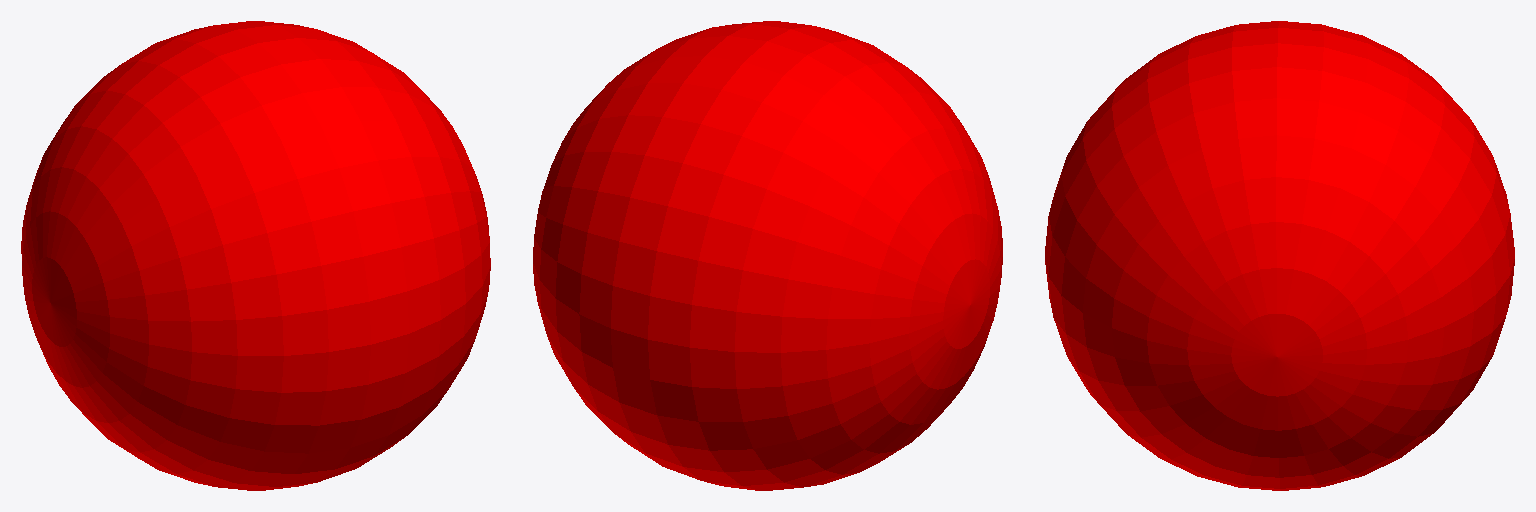
URDF robot description (panda):
<?xml version='1.0' encoding='utf-8'?>
<robot name="panda">
  
  <link name="panda_link0">
    <visual>
      <geometry>
        <mesh filename="package://franka_description/meshes/visual/link0.dae" />
      </geometry>
    </visual>
  </link>
  <link name="panda_link1">
    <visual>
      <geometry>
        <mesh filename="package://franka_description/meshes/visual/link1.dae" />
      </geometry>
    </visual>
  </link>
  
  
  <joint name="panda_joint1" type="revolute">
    <origin rpy="-2.6313949212650455e-06 -5.186632432689784e-08 -1.2780383157481656e-17" xyz="2.4693690209296155e-17 -4.567396885044367e-17 0.3330000000000001" />
    <parent link="panda_link0" />
    <child link="panda_link1" />
    <axis xyz="0 0 1" />
    <limit effort="87.0" lower="-2.8973" upper="2.8973" velocity="2.175" />
    <safety_controller k_position="100.0" k_velocity="40.0" soft_lower_limit="-2.8973" soft_upper_limit="2.8973" />
  </joint>
  
  <link name="panda_link2">
    <visual>
      <geometry>
        <mesh filename="package://franka_description/meshes/visual/link2.dae" />
      </geometry>
    </visual>
  </link>
  
  <joint name="panda_joint2" type="revolute">
    <origin rpy="-1.5671631233681536 -0.0006063905110036522 -4.638746785761078e-16" xyz="-0.00016542285187714177 0.00046611959924426654 4.3408992507204626e-17" />
    <parent link="panda_link1" />
    <child link="panda_link2" />
    <axis xyz="0 0 1" />
    <limit effort="87.0" lower="-1.7628" upper="1.7628" velocity="2.175" />
    <safety_controller k_position="100.0" k_velocity="40.0" soft_lower_limit="-1.7628" soft_upper_limit="1.7628" />
  </joint>
  
  <link name="panda_link3">
    <visual>
      <geometry>
        <mesh filename="package://franka_description/meshes/visual/link3.dae" />
      </geometry>
    </visual>
  </link>
  
  <joint name="panda_joint3" type="revolute">
    <origin rpy="1.5675434452162544 0.007116873693165347 -0.0005936954139923941" xyz="-4.018702287107603e-05 -0.31650707253508886 0.00046611688726827104" />
    <parent link="panda_link2" />
    <child link="panda_link3" />
    <axis xyz="0 0 1" />
    <limit effort="87.0" lower="-2.8973" upper="2.8973" velocity="2.175" />
    <safety_controller k_position="100.0" k_velocity="40.0" soft_lower_limit="-2.8973" soft_upper_limit="2.8973" />
  </joint>
  
  <link name="panda_link4">
    <visual>
      <geometry>
        <mesh filename="package://franka_description/meshes/visual/link4.dae" />
      </geometry>
    </visual>
  </link>
  
  <joint name="panda_joint4" type="revolute">
    <origin rpy="1.5720164890105501 0.001378946498497616 -0.007051884242910425" xyz="0.08298433483169573 -0.0008116166118042272 0.0005086088803250237" />
    <parent link="panda_link3" />
    <child link="panda_link4" />
    <axis xyz="0 0 1" />
    <limit effort="87.0" lower="-3.0718" upper="-0.0698" velocity="2.175" />
    <safety_controller k_position="100.0" k_velocity="40.0" soft_lower_limit="-3.0718" soft_upper_limit="-0.0698" />
  </joint>
  
  <link name="panda_link5">
    <visual>
      <geometry>
        <mesh filename="package://franka_description/meshes/visual/link5.dae" />
      </geometry>
    </visual>
  </link>
  
  <joint name="panda_joint5" type="revolute">
    <origin rpy="-1.569984004153357 0.003846076429680107 -0.0013253971011171648" xyz="-0.082508298986969 0.38458342771047327 0.000807558975830882" />
    <parent link="panda_link4" />
    <child link="panda_link5" />
    <axis xyz="0 0 1" />
    <limit effort="12.0" lower="-2.8973" upper="2.8973" velocity="2.61" />
    <safety_controller k_position="100.0" k_velocity="40.0" soft_lower_limit="-2.8973" soft_upper_limit="2.8973" />
  </joint>
  
  <link name="panda_link6">
    <visual>
      <geometry>
        <mesh filename="package://franka_description/meshes/visual/link6.dae" />
      </geometry>
    </visual>
  </link>
  
  <joint name="panda_joint6" type="revolute">
    <origin rpy="1.5668251155588273 0.002949000686762804 0.0038450010406930564" xyz="-0.00015157481312079457 0.00035924901235692046 0.0005840719712579211" />
    <parent link="panda_link5" />
    <child link="panda_link6" />
    <axis xyz="0 0 1" />
    <limit effort="12.0" lower="-0.0175" upper="3.7525" velocity="2.61" />
    <safety_controller k_position="100.0" k_velocity="40.0" soft_lower_limit="-0.0175" soft_upper_limit="3.7525" />
  </joint>
  
  <link name="panda_link7">
    <visual>
      <geometry>
        <mesh filename="package://franka_description/meshes/visual/link7.dae" />
      </geometry>
    </visual>
  </link>
  
  <joint name="panda_joint7" type="revolute">
    <origin rpy="1.571805285853835 3.401850246877615e-06 -0.002789392698002778" xyz="0.08620360708606715 -0.0016404761909481107 -0.00035750862524293586" />
    <parent link="panda_link6" />
    <child link="panda_link7" />
    <axis xyz="0 0 1" />
    <limit effort="12.0" lower="-2.8973" upper="2.8973" velocity="2.61" />
    <safety_controller k_position="100.0" k_velocity="40.0" soft_lower_limit="-2.8973" soft_upper_limit="2.8973" />
  </joint>
  <link name="panda_link8" />
  <joint name="panda_joint8" type="fixed">
    <origin rpy="0 0 0" xyz="0 0 0.107" />
    <parent link="panda_link7" />
    <child link="panda_link8" />
  </joint>
  <joint name="panda_hand_joint" type="fixed">
    <parent link="panda_link8" />
    <child link="panda_hand" />
    <origin rpy="0 0 -0.7853981633974483" xyz="0 0 0" />
  </joint>
  
  <link name="panda_hand">
    <visual>
      <geometry>
        <mesh filename="package://franka_description/meshes/visual/hand.dae" />
      </geometry>
    </visual>
  </link>
  <link name="panda_hand_tcp" />
  <joint name="panda_hand_tcp_joint" type="fixed">
    <origin rpy="0 0 0" xyz="0 0 0.1034" />
    <parent link="panda_hand" />
    <child link="panda_hand_tcp" />
  </joint>
  <link name="ball_link">
    <visual>
      <material name="red">
        <color rgba="1 0 0 1" />
      </material>

      <geometry>
        <sphere radius="0.005" />
      </geometry>
    </visual>
  </link>

  <joint name="ball_joint" type="fixed">
    <origin rpy="0.0 0.0 0.0" xyz="-0.000964425639282203 -0.007034307145014577 0.031774138437114886" />
    <parent link="panda_hand_tcp" />
    <child link="ball_link" />
  </joint>
  <link name="panda_leftfinger">
    <visual>
      <geometry>
        <mesh filename="package://franka_description/meshes/visual/finger.dae" />
      </geometry>
    </visual>
  </link>
  <link name="panda_rightfinger">
    <visual>
      <origin rpy="0 0 3.141592653589793" xyz="0 0 0" />
      <geometry>
        <mesh filename="package://franka_description/meshes/visual/finger.dae" />
      </geometry>
    </visual>
  </link>

    <joint name="panda_finger_joint1" type="prismatic">
    <parent link="panda_hand" />
    <child link="panda_leftfinger" />
    <origin rpy="0 0 0" xyz="0 0 0.0584" />
    <axis xyz="0 1 0" />
    <limit effort="100" lower="0.0" upper="0.04" velocity="0.2" />
    <dynamics damping="0.3" />
  </joint>
  <joint name="panda_finger_joint2" type="prismatic">
    <parent link="panda_hand" />
    <child link="panda_rightfinger" />
    <origin rpy="0 0 0" xyz="0 0 0.0584" />
    <axis xyz="0 -1 0" />
    <limit effort="100" lower="0.0" upper="0.04" velocity="0.2" />
    <mimic joint="panda_finger_joint1" />
    <dynamics damping="0.3" />
  </joint>
</robot>

--- Facts derived from the render (not from the file) ---
3 views of the same robot in one strip: view 1: azimuth 30°, elevation 25°; view 2: azimuth 150°, elevation 25°; view 3: azimuth 270°, elevation 25° (orthographic).
Model panda with 14 links and 13 joints (7 revolute, 2 prismatic, 4 fixed), rooted at panda_link0, posed all joints at 0 but 1 set to mid-range because 0 is outside their limits (panda_joint4 = -1.57).
Links seen in each view (by area): view 1: ball_link; view 2: ball_link; view 3: ball_link.
Link boxes in pixels (box(x1,y1,x2,y2)): ball_link: box(21, 21, 490, 490); ball_link: box(533, 21, 1002, 490); ball_link: box(1045, 21, 1514, 490).
Size in the robot's own frame: 0.01 by 0.01 by 0.01 metres.
Meshes: 10 distinct files referenced, 0 mesh visuals loaded (none loaded); not drawn: 11 (reference not matched to a file when rendering).